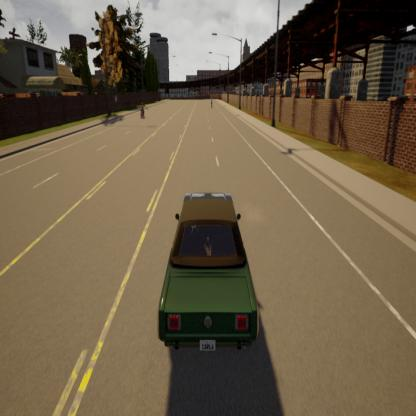Cars: (153, 163, 266, 367)
